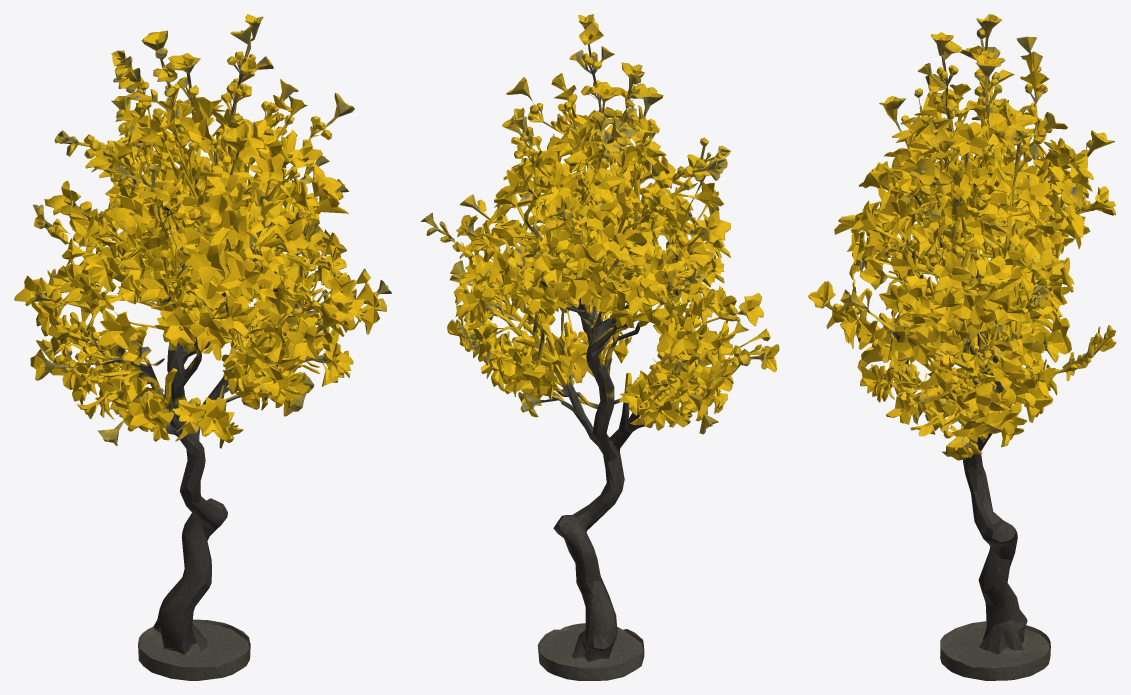
The model's file is ipe_amarelo.glb.
3 renders of one model, left to right at view 1: azimuth 30°, elevation 25°; view 2: azimuth 150°, elevation 25°; view 3: azimuth 270°, elevation 25°, orthographic. The views are drawn at different scales.
Size of the model in its own units: 1.06 by 1.9 by 0.8314.
Materials: 1 (1 with a texture image).
